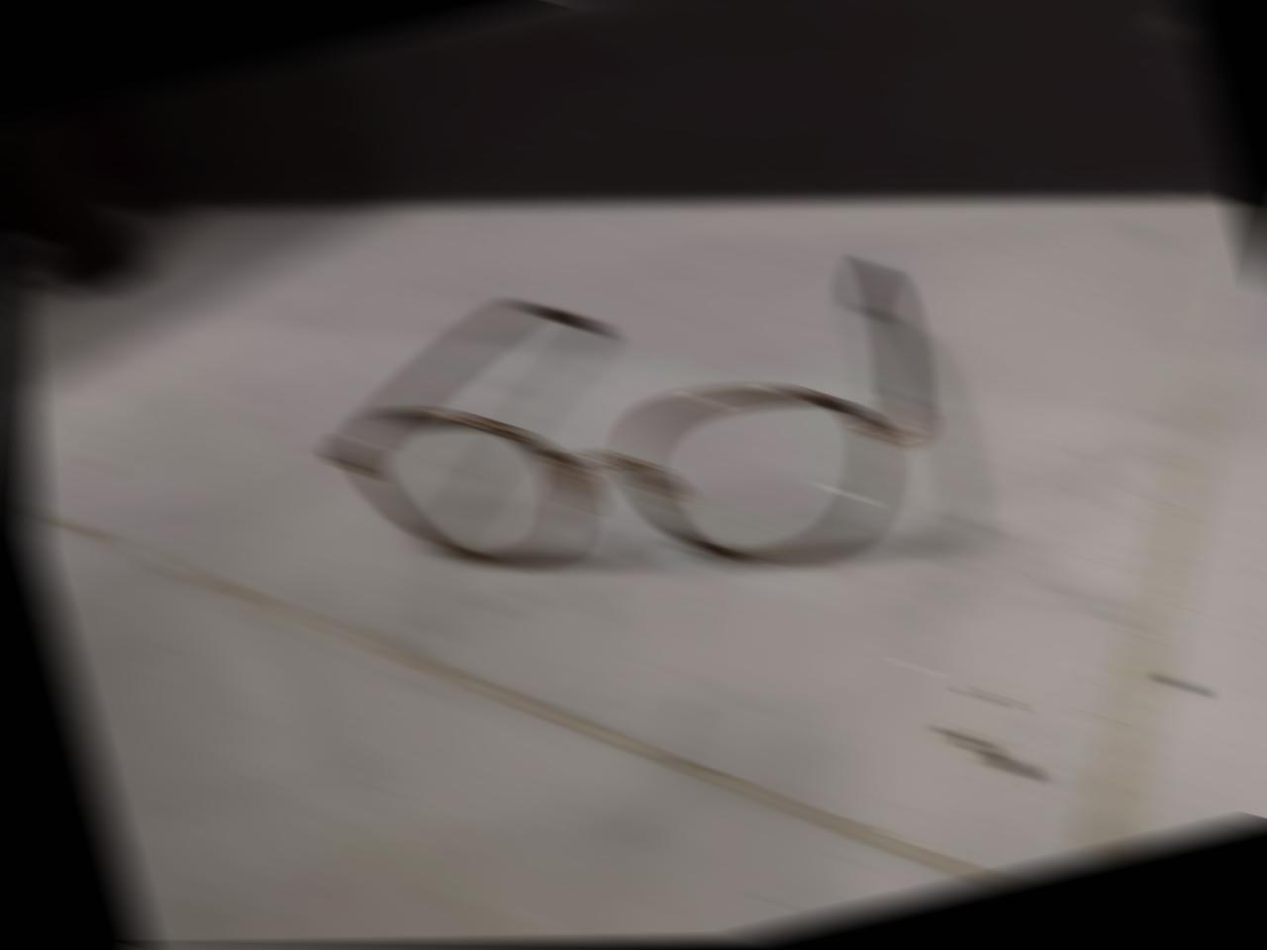glasses: (281, 221, 986, 677)
